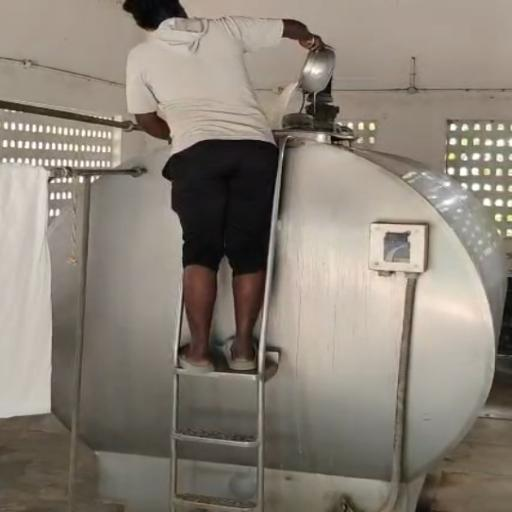silo: (51, 129, 509, 511)
vessel: (297, 48, 336, 93)
